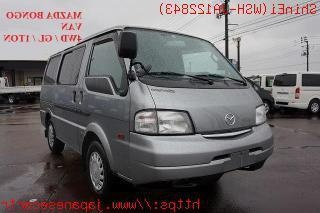van: (37, 26, 273, 183)
